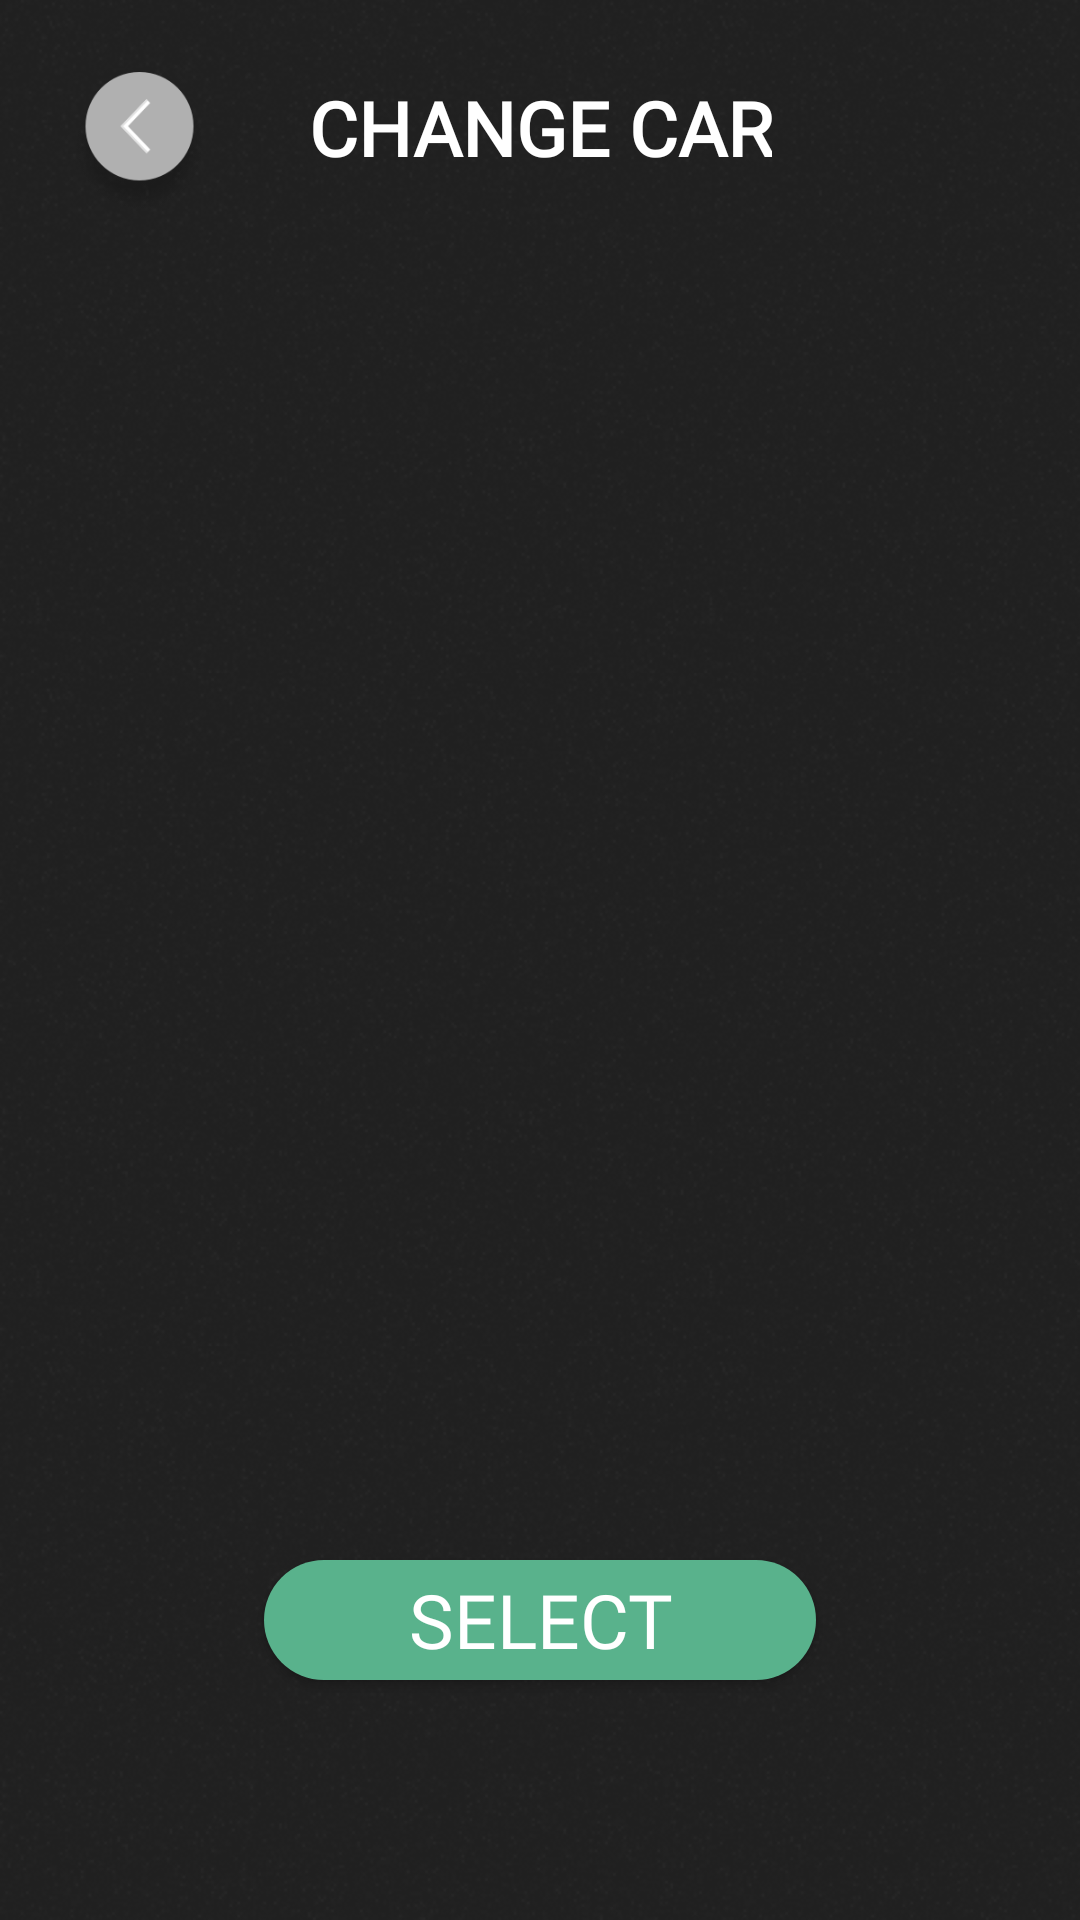

Named icons in this screenshot (1080×1920) and their centers, point (x, y):
back cta: point (139, 126)
